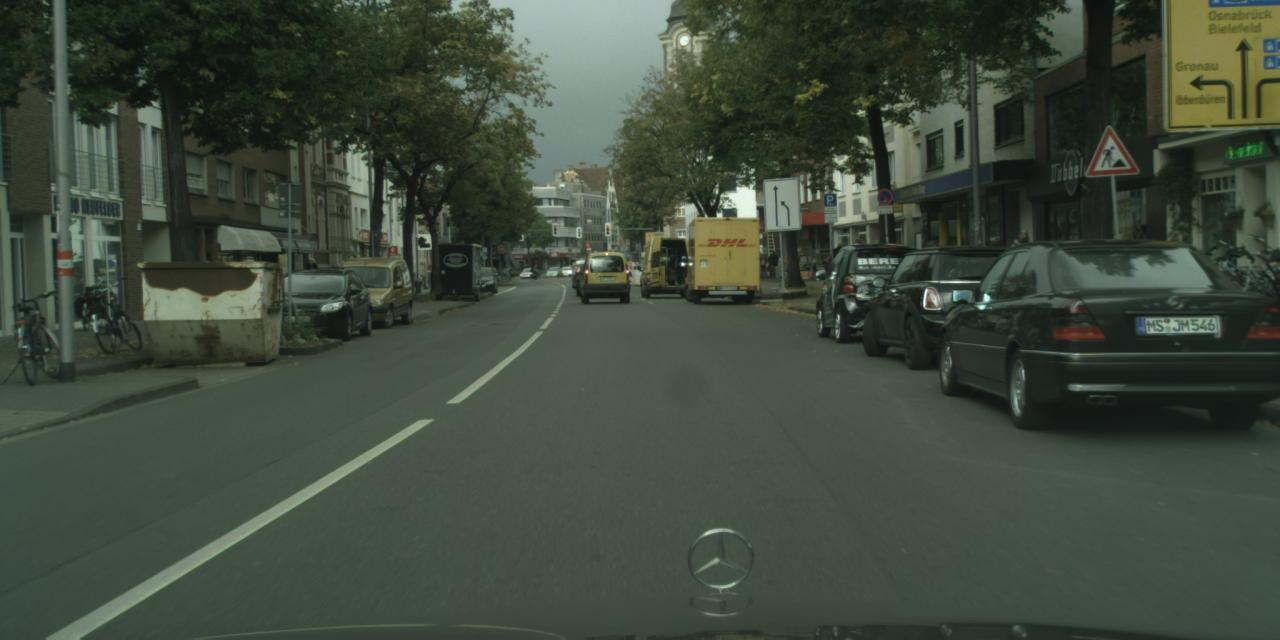ped: (1008, 229, 1034, 295), (921, 237, 943, 290), (846, 237, 867, 287), (830, 241, 849, 288), (302, 258, 320, 300), (758, 252, 768, 279), (768, 250, 778, 276), (809, 258, 818, 280), (508, 267, 513, 281), (533, 265, 538, 277)
